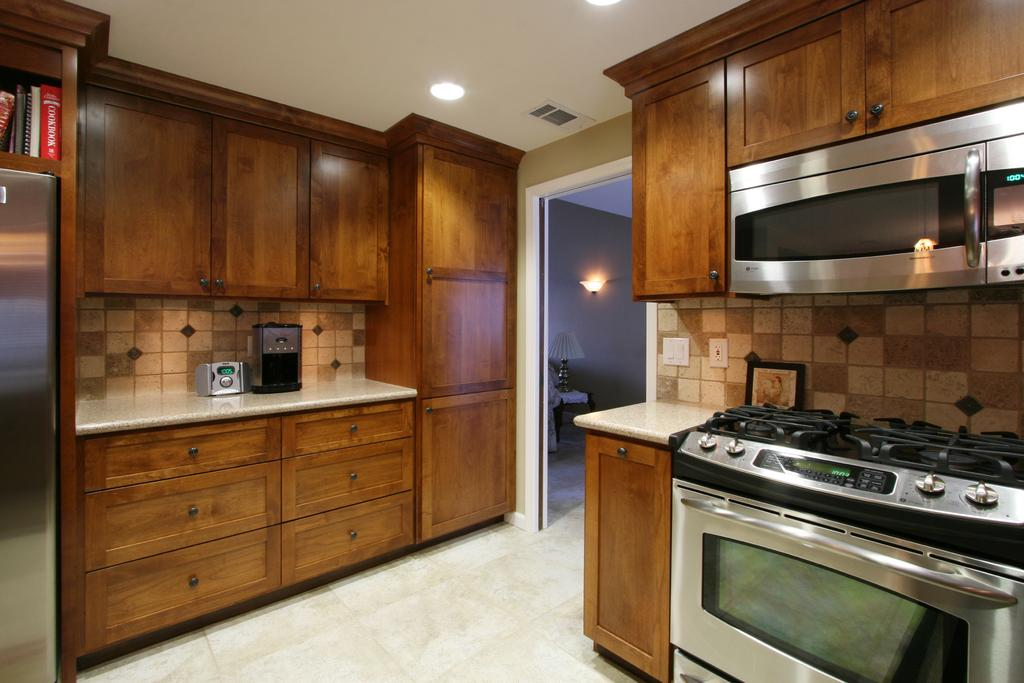cabinet_door: (90, 90, 218, 296), (422, 154, 518, 394), (584, 432, 678, 669), (636, 92, 722, 301), (210, 129, 306, 302), (862, 20, 1024, 111), (87, 536, 292, 604), (310, 152, 390, 320), (728, 53, 867, 142), (422, 394, 514, 524), (87, 481, 281, 533), (280, 452, 422, 510), (280, 416, 414, 469), (276, 520, 423, 566), (96, 435, 278, 470)
handle: (684, 508, 1022, 610), (954, 156, 990, 268), (838, 100, 860, 126), (860, 102, 888, 122), (340, 524, 360, 548), (184, 443, 206, 464), (706, 264, 724, 288), (183, 566, 200, 590), (180, 501, 200, 520), (194, 272, 210, 291), (346, 468, 364, 484), (610, 443, 632, 456), (210, 279, 224, 294), (349, 422, 361, 436)
